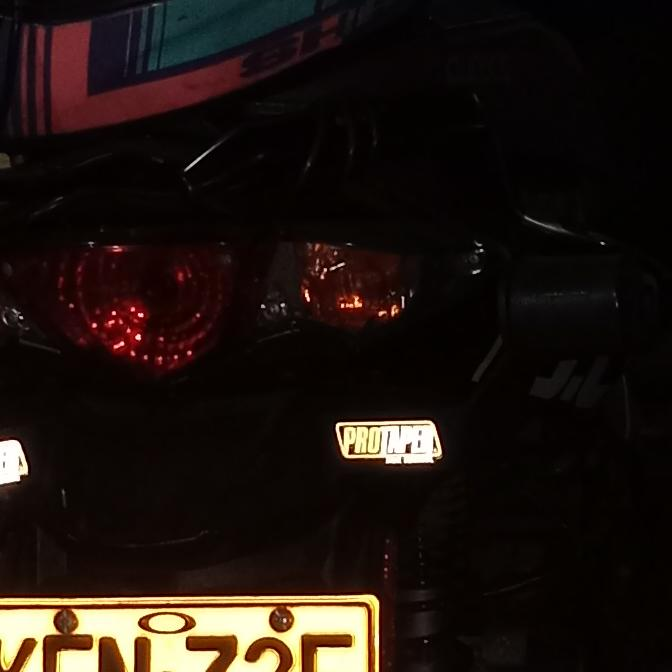plates: (0, 596, 392, 672)
